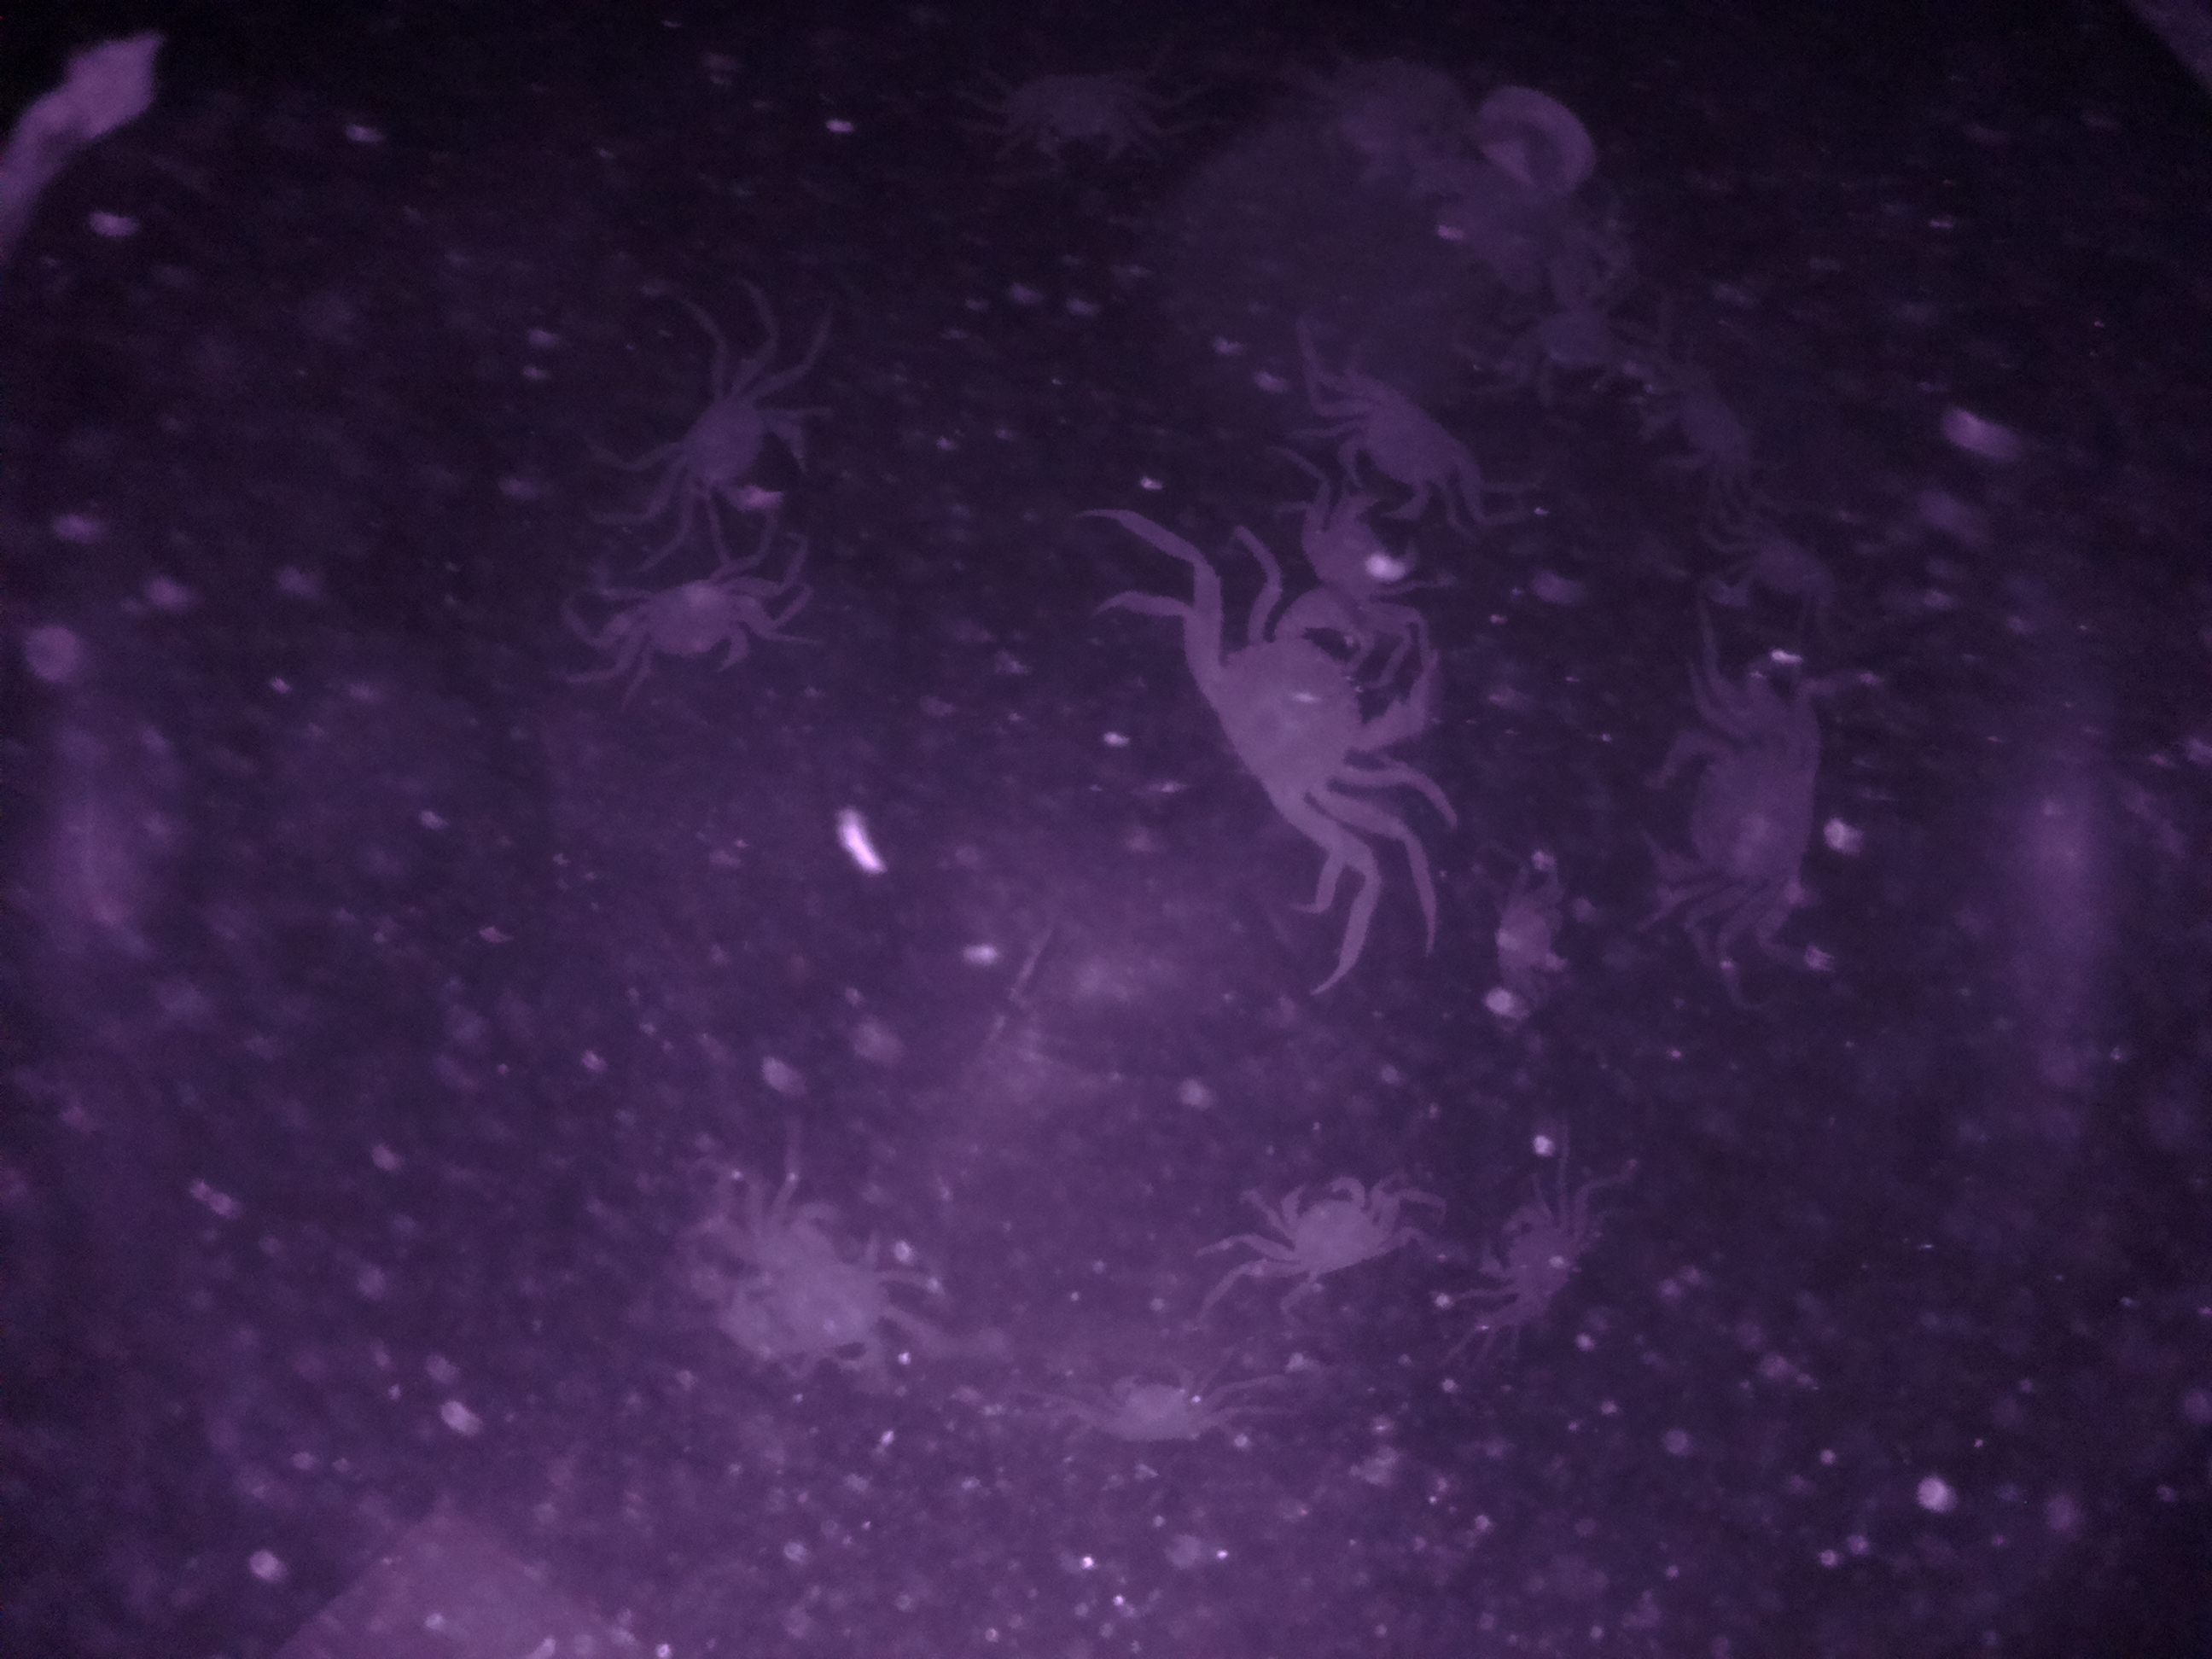Crab: (1155, 579, 1449, 843), (1623, 699, 1862, 943), (1313, 371, 1498, 544), (648, 364, 824, 528), (1219, 1155, 1411, 1303), (563, 570, 796, 687), (1461, 1176, 1599, 1349)
